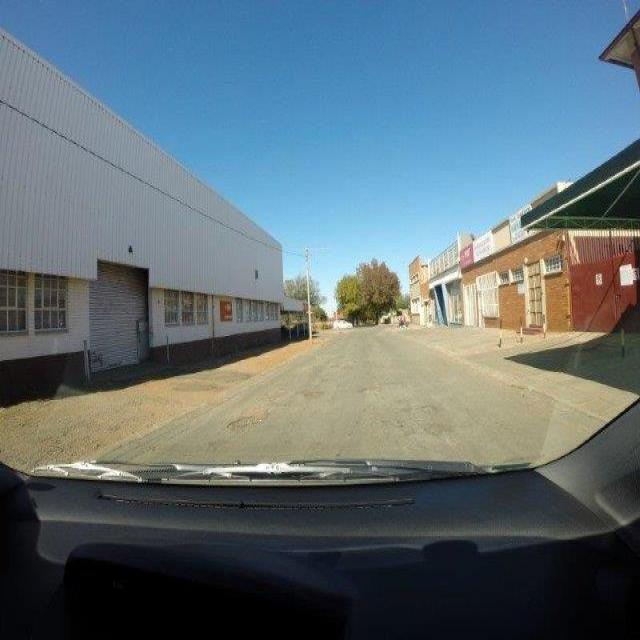jalan retak: (406, 399, 458, 441), (378, 408, 414, 441), (357, 378, 410, 399), (323, 352, 362, 376)
lubang: (221, 417, 264, 432), (296, 389, 329, 402)
